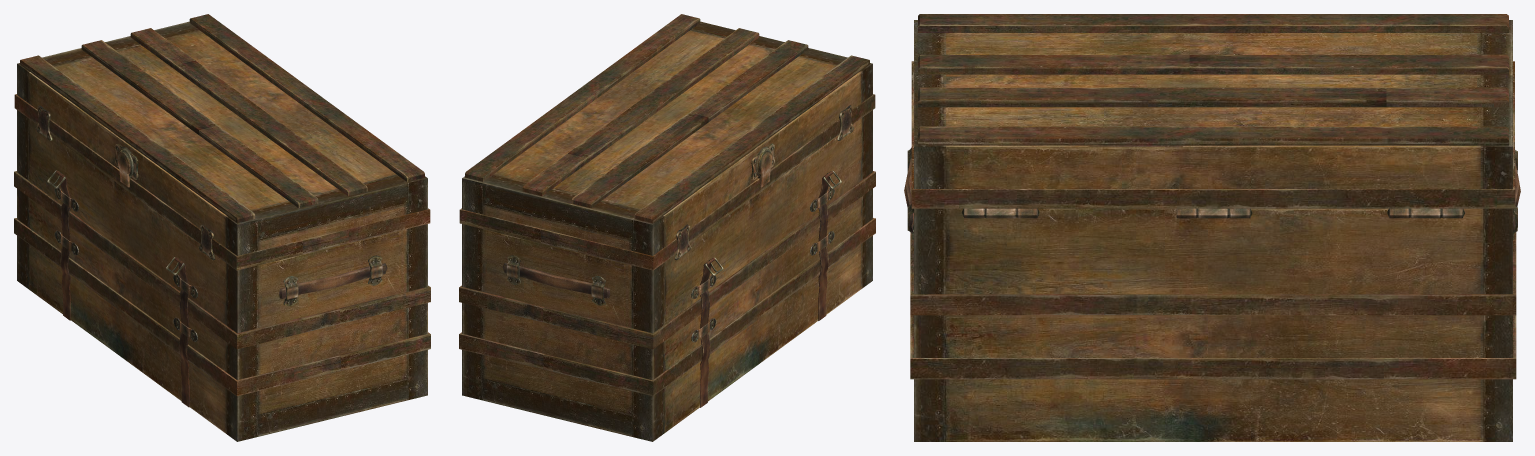
File: seachest.fbx
The picture shows the model from 3 angles, left to right: view 1: azimuth 30°, elevation 25°; view 2: azimuth 150°, elevation 25°; view 3: azimuth 270°, elevation 25°; orthographic projection. The views are drawn at different scales.
Visible parts, largest first — view 1: seachest; view 2: seachest; view 3: seachest.
Part boxes in pixels (<box>): seachest: <box>14,14,430,441</box>; seachest: <box>459,14,875,441</box>; seachest: <box>904,14,1520,441</box>.
Bounding box in the file's own units: 93.09 × 93.64 × 173.
1 material, 1 textured.
